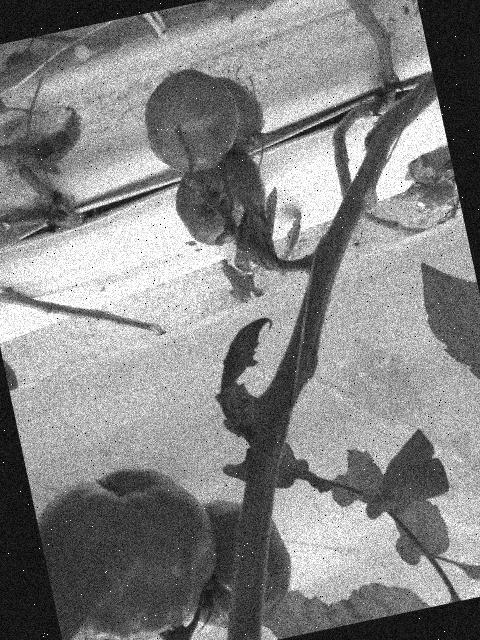b_fully_ripened: (30, 450, 234, 640), (171, 487, 304, 639), (167, 148, 275, 253)
b_green: (209, 68, 271, 159)
b_half_ripened: (135, 60, 249, 180)
